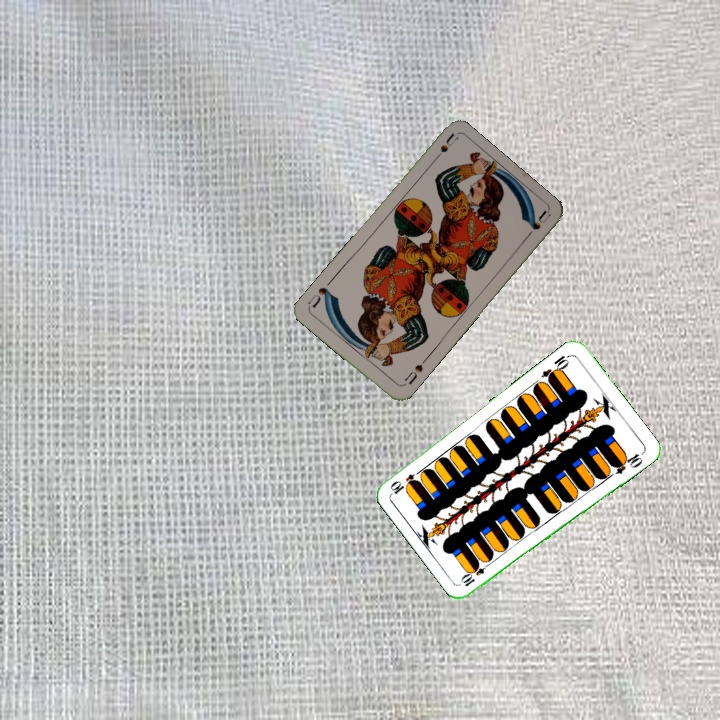E10: (537, 351, 573, 384), (459, 557, 493, 590)
SU: (428, 130, 460, 166), (398, 355, 429, 389)
